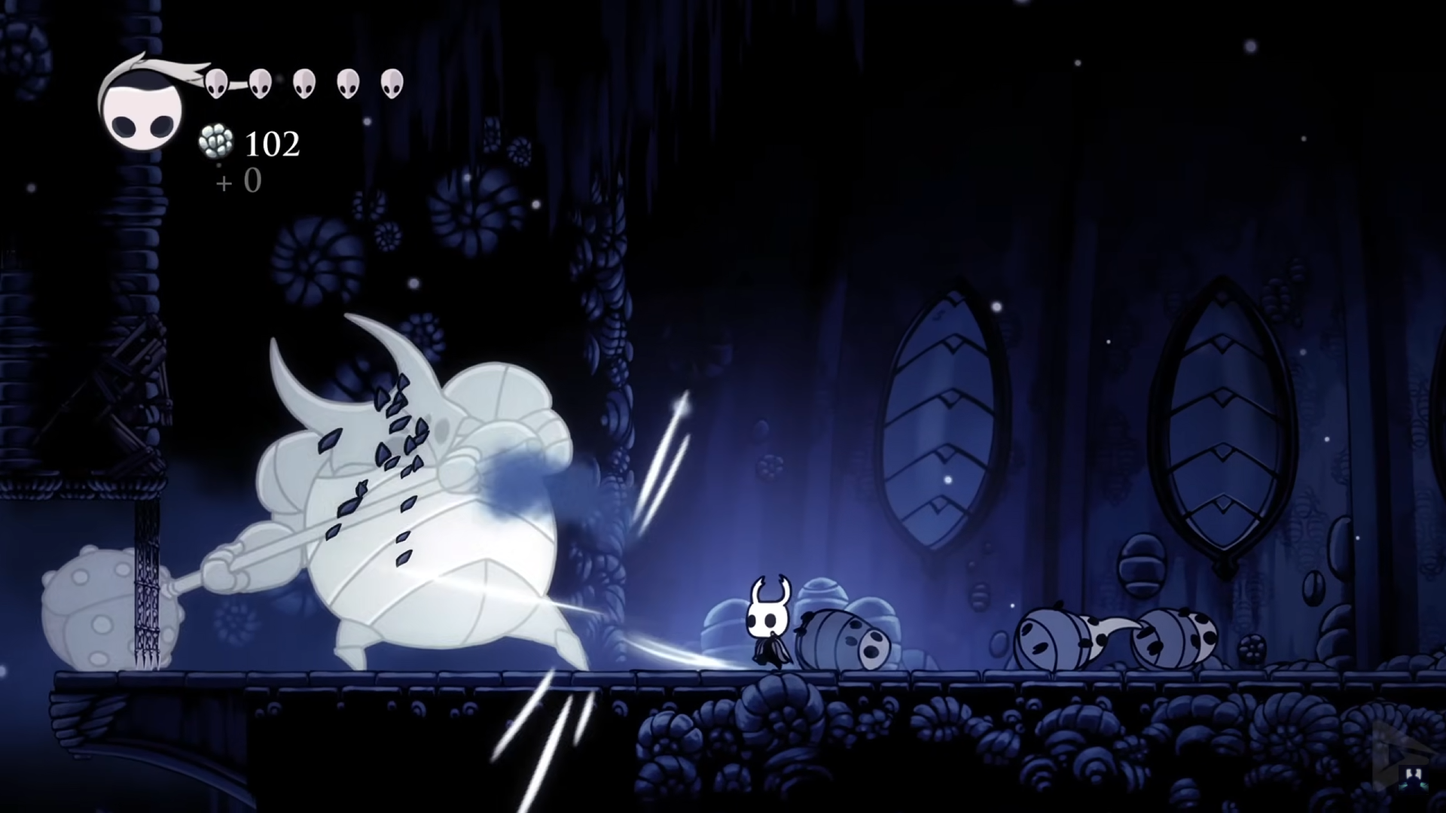HK: (737, 573, 799, 671)
